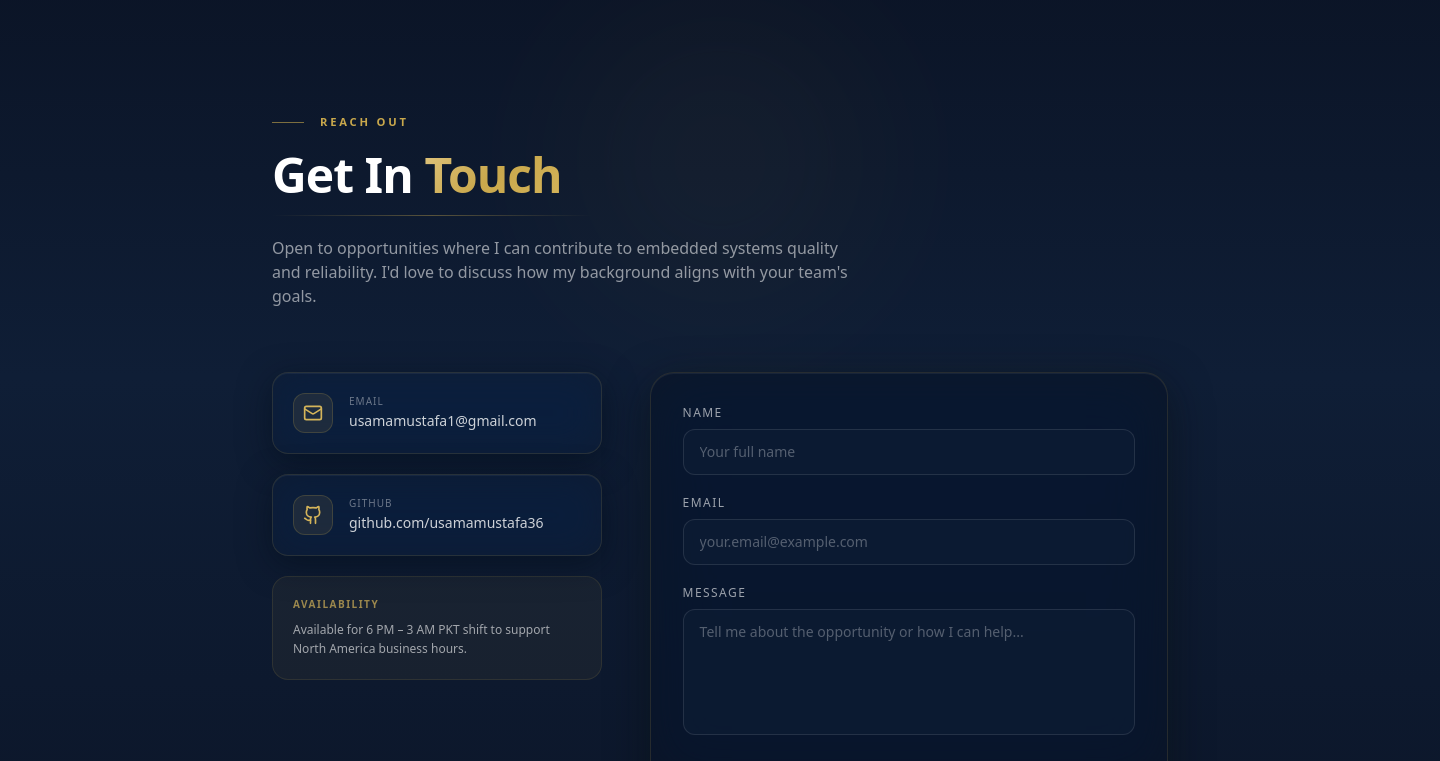
Scenario: Contact Component › handles form submission error
The width and height of the screenshot is (1440, 761).
Type "John Doe" into the field labelled "Name". click: (909, 452)
box: 683,429 -> 1135,475
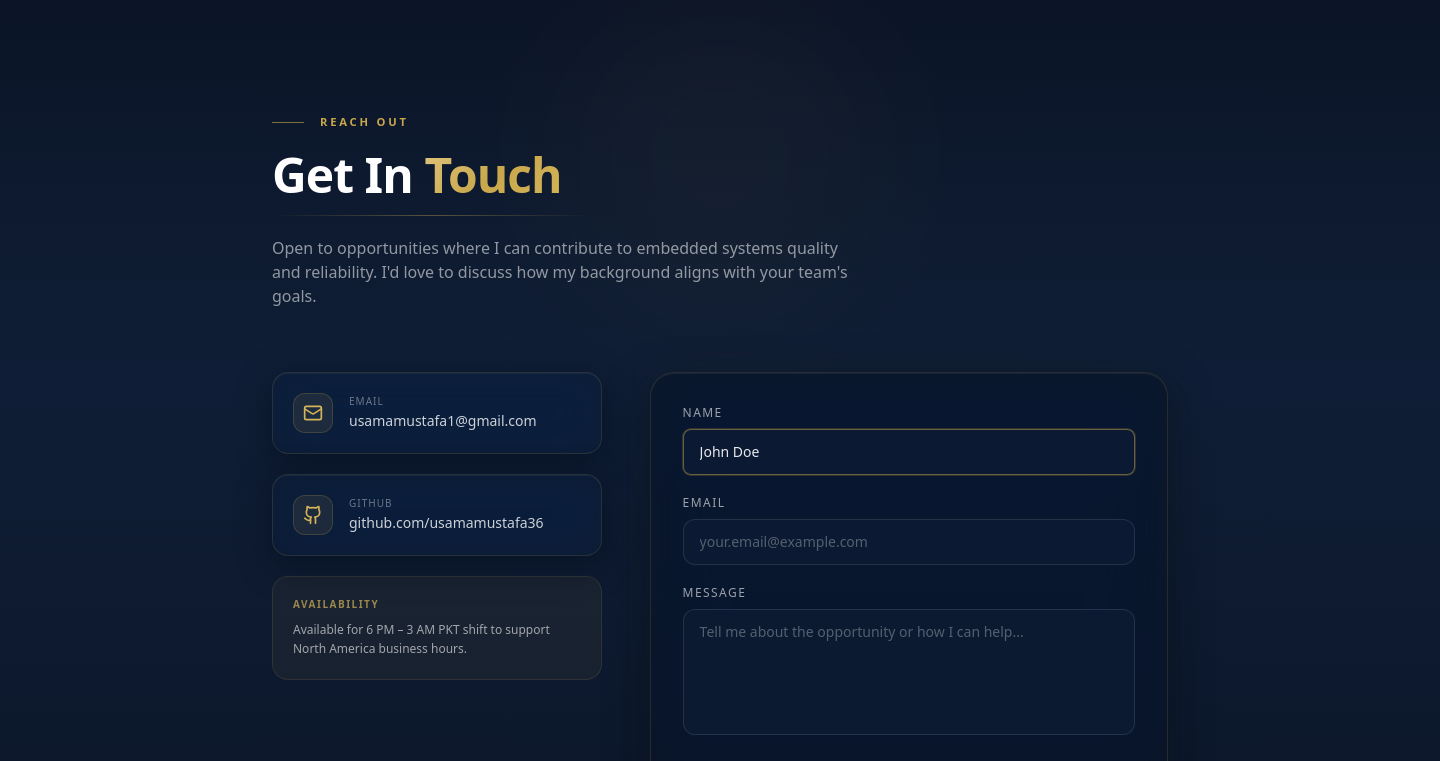
Type "john@example.com" into the field labelled "Email". click: (909, 542)
box: 683,519 -> 1135,565
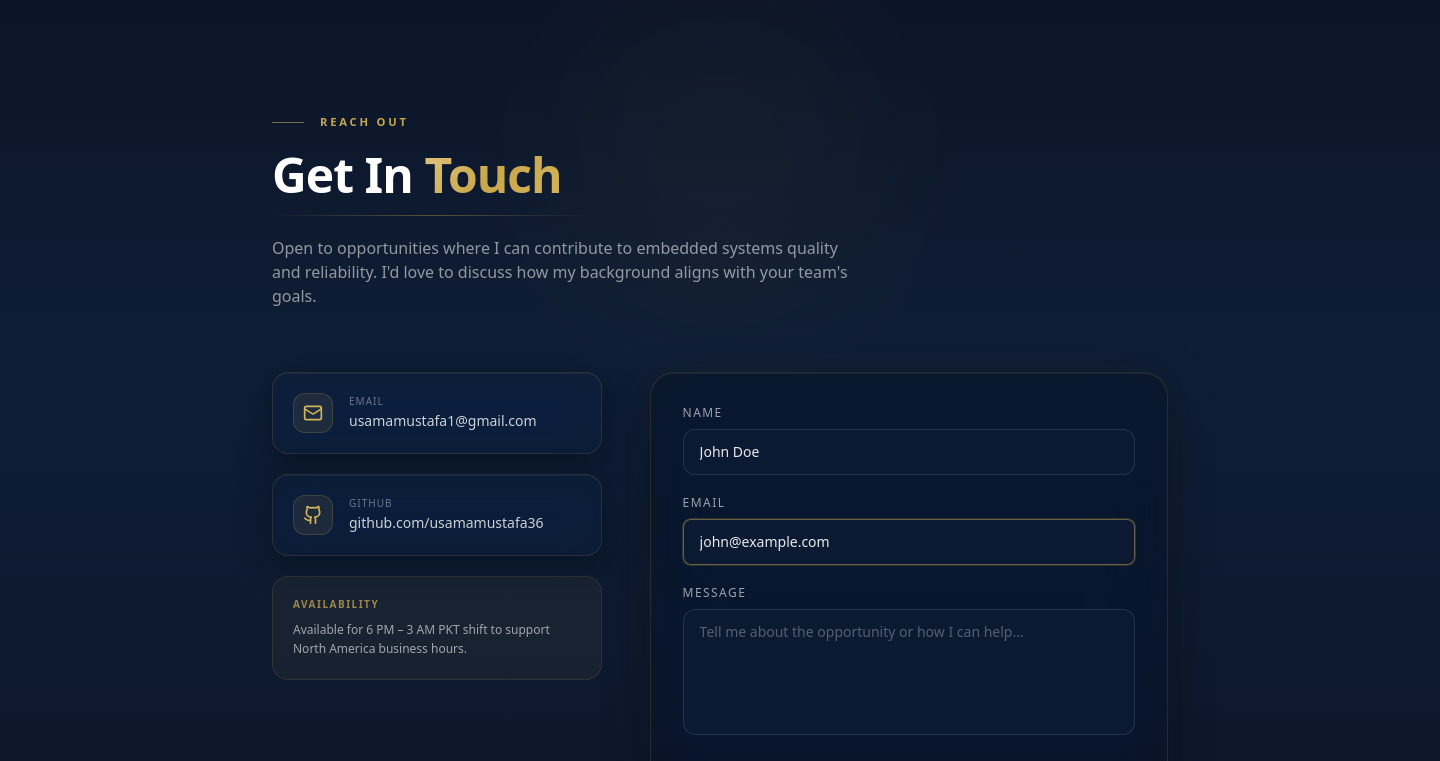
Type "This is a test message" into the text box labelled "Message". click: (909, 672)
box: 683,609 -> 1135,735
(page scrolled)
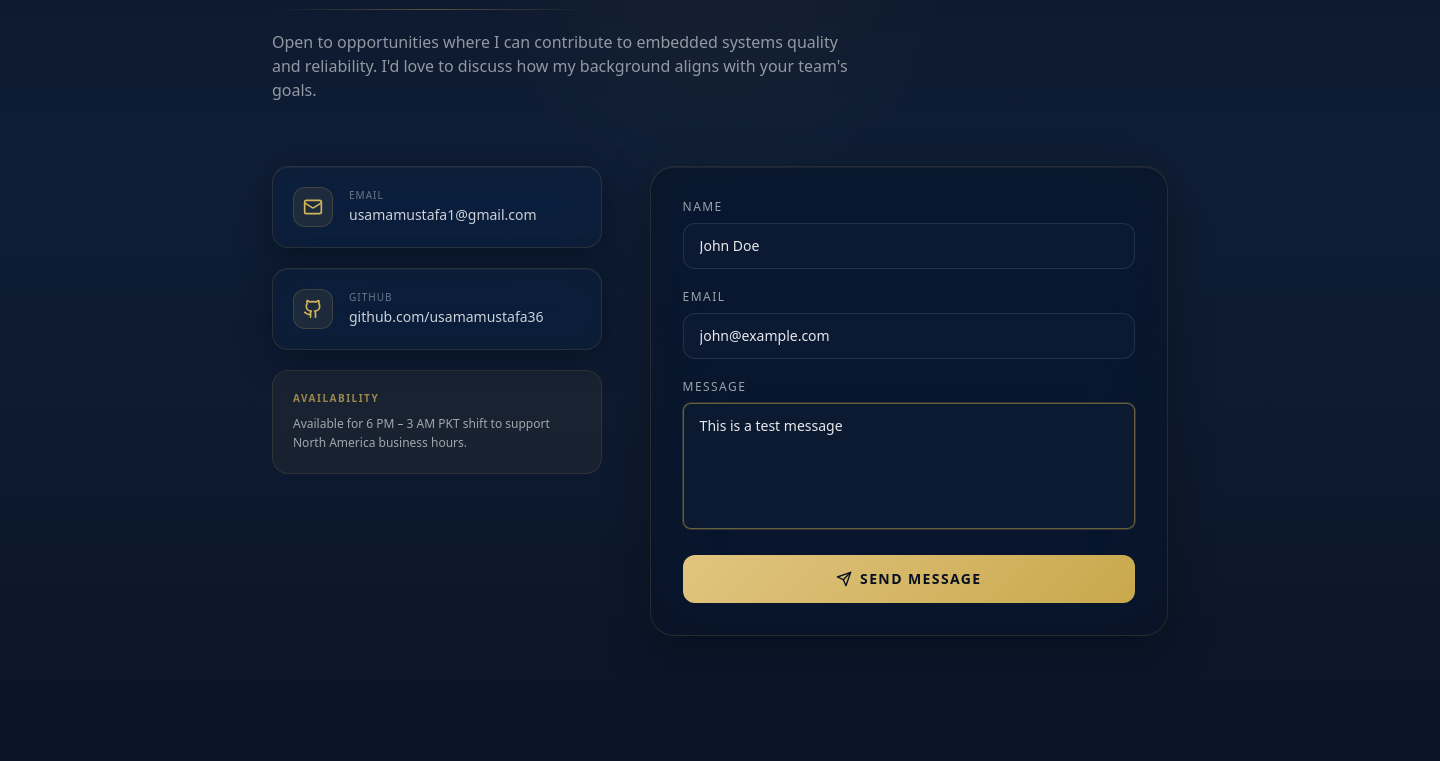
Click the button "SEND MESSAGE". click: click(909, 579)
box: 683,555 -> 1135,603
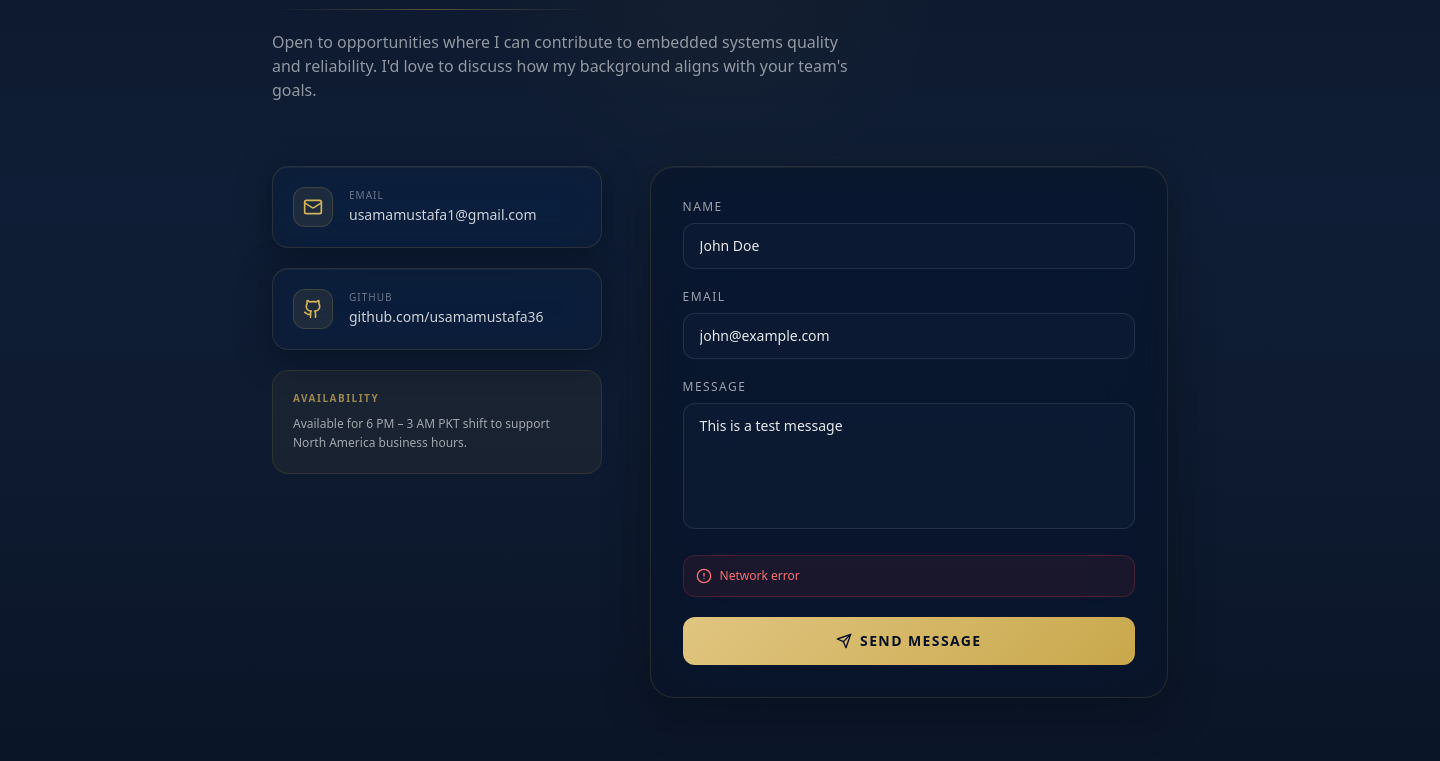
Check: the text "Network error" is shown, box 683,555 -> 1135,597
